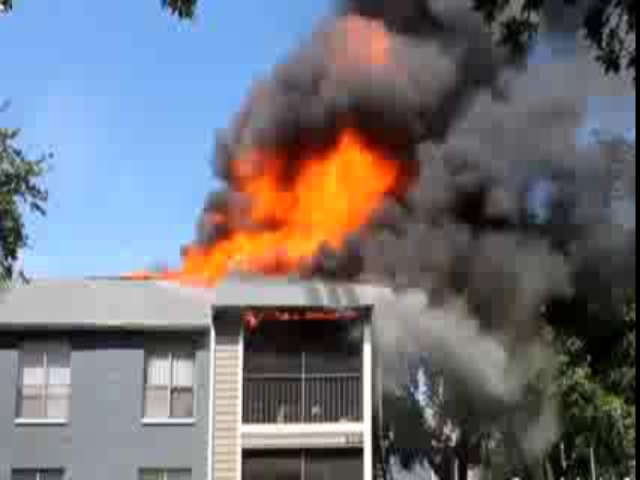fire: (184, 136, 396, 280)
